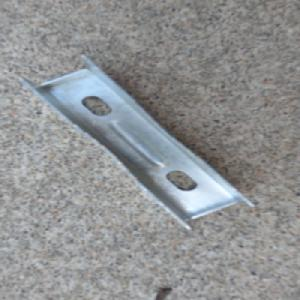ClampPart: (16, 51, 258, 231)
